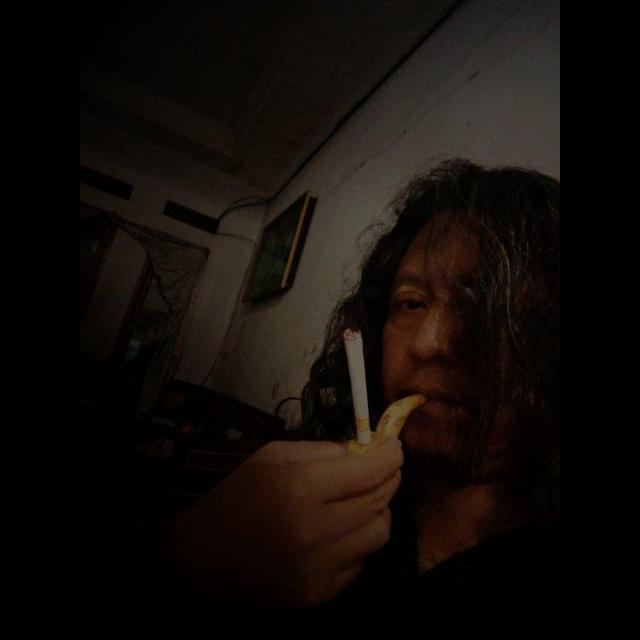rokok: (341, 321, 372, 447)
